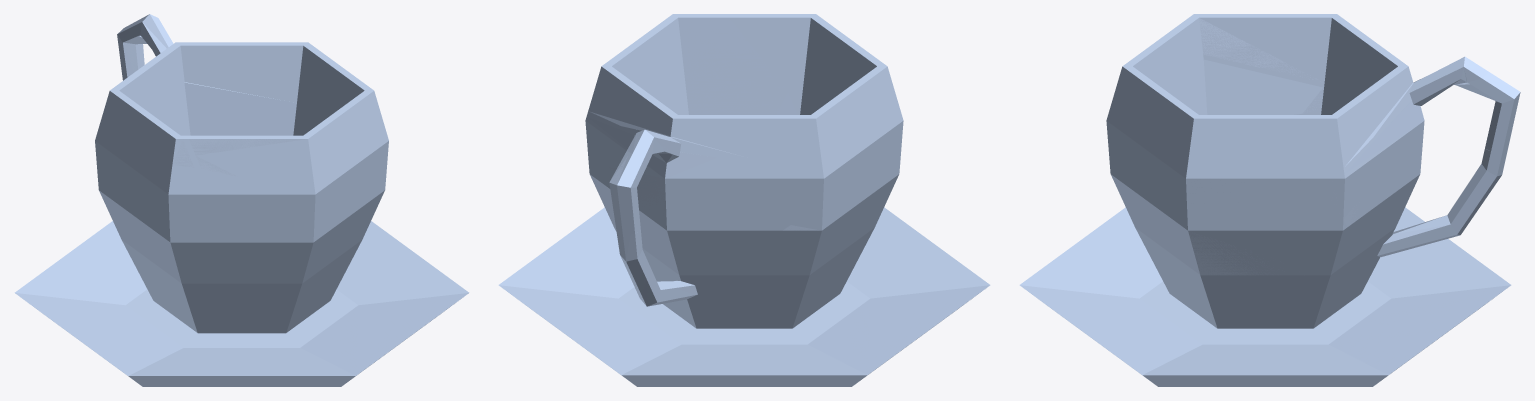
File: teacup_and_dish.fbx
3 renders of one model, left to right at view 1: azimuth 30°, elevation 25°; view 2: azimuth 150°, elevation 25°; view 3: azimuth 270°, elevation 25°, orthographic. The views are drawn at different scales.
Parts seen in each view (by area): view 1: Cylinder.001, Cylinder, Cylinder_cell, Cylinder.001_cell.001, Cylinder.001_cell.002, Cylinder.001_cell.003, Cylinder_cell.003, Cylinder.001_cell, Cylinder_cell.001, Cylinder.001_cell.008, Cylinder.001_cell.005; view 2: Cylinder.001, Cylinder, Cylinder_cell, Cylinder.001_cell, Cylinder.001_cell.009, Cylinder_cell.001, Cylinder.001_cell.002, Cylinder.001_cell.001, Cylinder.001_cell.011, Cylinder.001_cell.005, Cylinder.001_cell.010; view 3: Cylinder.001, Cylinder, Cylinder_cell, Cylinder_cell.001, Cylinder.001_cell, Cylinder.001_cell.003, Cylinder.001_cell.001, Cylinder.001_cell.002, Cylinder.001_cell.008, Cylinder.001_cell.011, Cylinder_cell.002.
Part boxes in pixels (x1,y1,x2,y2): Cylinder.001: (95,14,388,333); Cylinder: (32,221,469,386); Cylinder_cell: (14,221,178,333); Cylinder.001_cell.001: (125,14,320,113); Cylinder.001_cell.002: (117,27,299,135); Cylinder.001_cell.003: (138,195,314,242); Cylinder_cell.003: (90,329,385,386); Cylinder.001_cell: (301,224,366,289); Cylinder_cell.001: (343,221,411,277); Cylinder.001_cell.008: (127,103,306,175); Cylinder.001_cell.005: (108,197,310,264); Cylinder.001: (585,14,903,318); Cylinder: (499,207,990,386); Cylinder_cell: (561,315,927,385); Cylinder.001_cell: (592,17,797,231); Cylinder.001_cell.009: (663,225,832,328); Cylinder_cell.001: (499,240,676,329); Cylinder.001_cell.002: (587,117,776,229); Cylinder.001_cell.001: (589,40,735,154); Cylinder.001_cell.011: (626,232,696,294); Cylinder.001_cell.005: (830,196,865,241); Cylinder.001_cell.010: (641,279,694,306); Cylinder.001: (1106,14,1520,328); Cylinder: (1019,207,1508,386); Cylinder_cell: (1333,207,1510,329); Cylinder_cell.001: (1267,315,1446,375); Cylinder.001_cell: (1129,163,1346,327); Cylinder.001_cell.003: (1175,59,1322,114); Cylinder.001_cell.001: (1329,23,1488,166); Cylinder.001_cell.002: (1324,78,1519,226); Cylinder.001_cell.008: (1199,18,1320,81); Cylinder.001_cell.011: (1378,149,1496,256); Cylinder_cell.002: (1122,352,1263,386).
Bounding box in the file's own units: 19.92 × 12.99 × 23.42.
